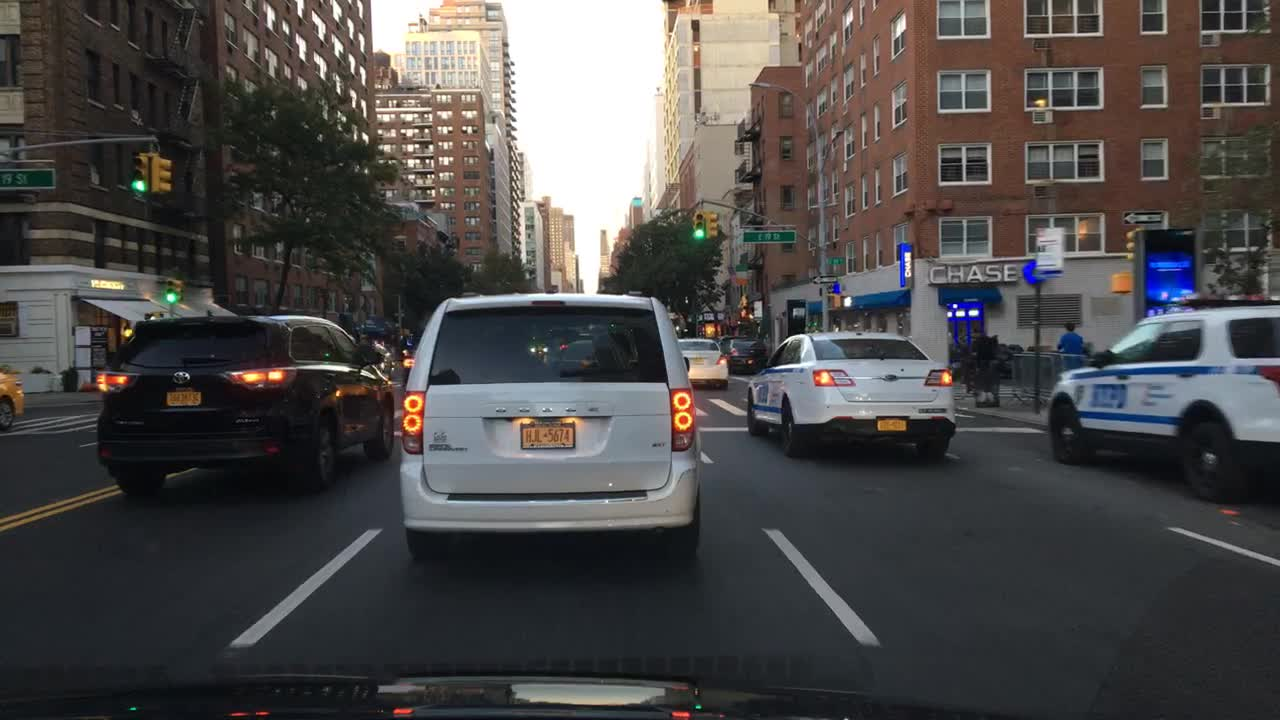car: (404, 292, 707, 560), (95, 315, 398, 499), (1046, 298, 1279, 504), (749, 331, 956, 462), (677, 339, 727, 388), (716, 340, 771, 374), (0, 370, 22, 430), (403, 345, 424, 381)
person: (973, 327, 995, 409), (1057, 322, 1081, 372), (946, 339, 966, 372), (963, 342, 975, 395)
traffic light: (153, 155, 173, 195), (1108, 273, 1136, 301), (133, 150, 149, 195), (693, 211, 706, 241), (164, 277, 178, 304), (706, 210, 720, 236), (1125, 229, 1135, 260), (178, 281, 187, 303), (841, 295, 855, 306)
traffic sign: (1035, 226, 1065, 269), (0, 168, 54, 190), (736, 230, 798, 242), (1123, 211, 1168, 221), (810, 273, 841, 285), (818, 256, 849, 264), (733, 262, 753, 270), (731, 278, 752, 285)
